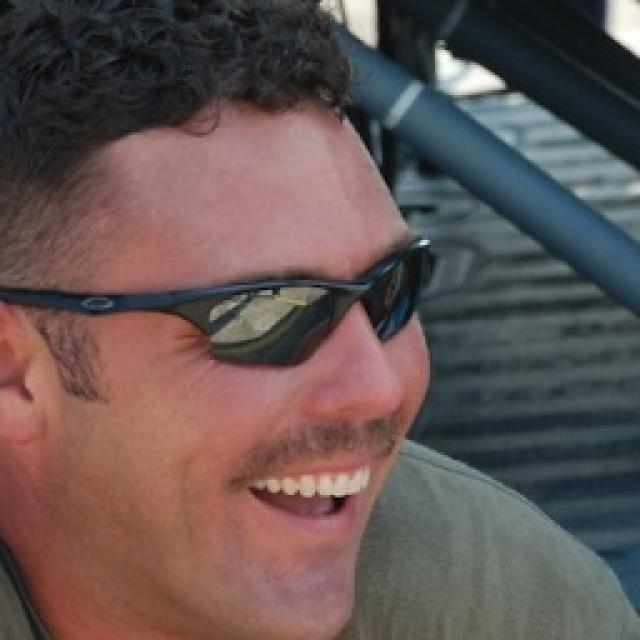glasses: (8, 232, 442, 378)
